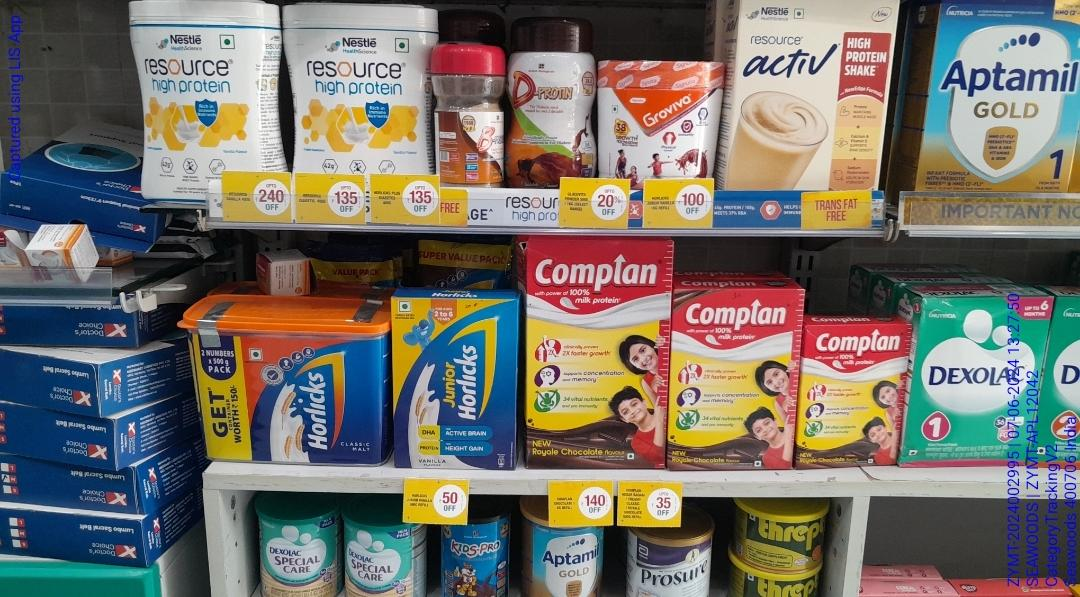COMPLAN_CHOCOLATE_1_KG_PACK: (525, 240, 661, 471)
COMPLAN_CHOCOLATE_200_GMS_PACK: (798, 320, 902, 464)
COMPLAN_CHOCOLATE_500_GMS_PACK: (676, 292, 795, 471)
HORLICK_MALT_1_KG_CONTAINER: (190, 311, 382, 472)
